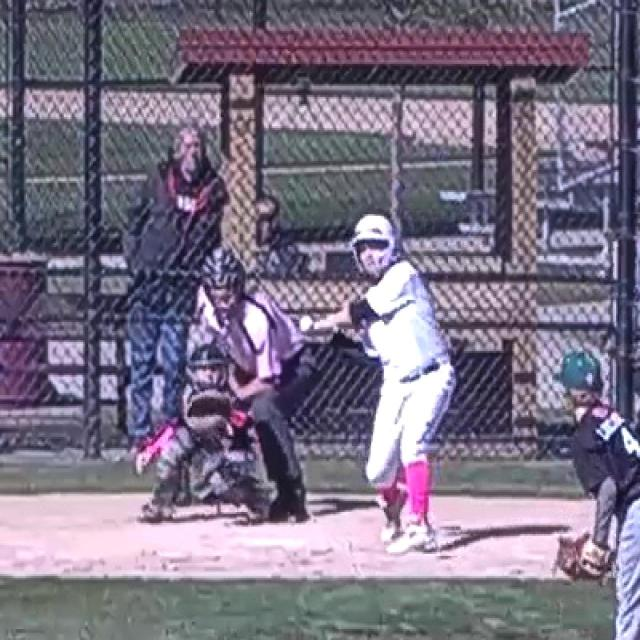baseball: (299, 316, 313, 333)
